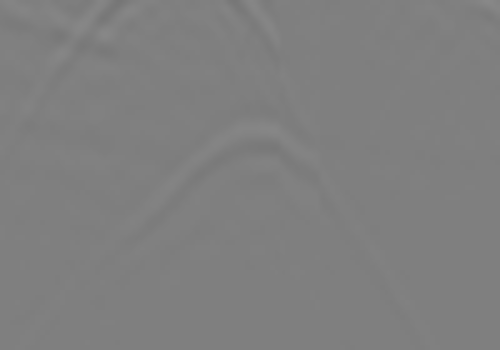hyperbola: (76, 117, 446, 349)
